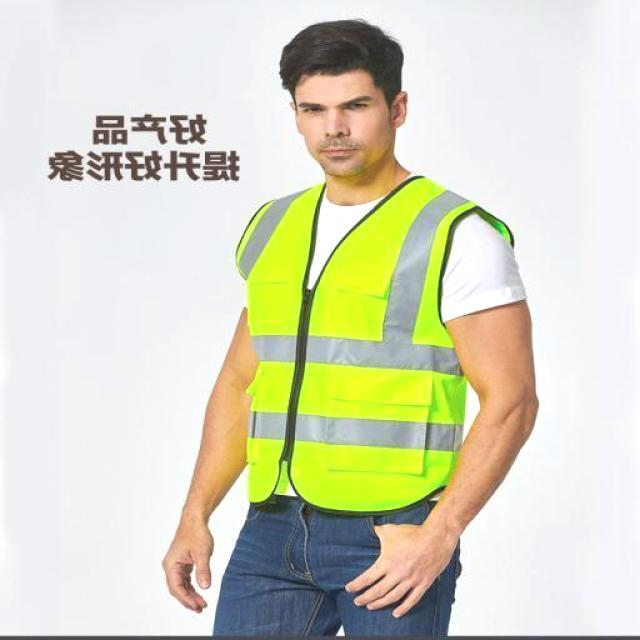face_nomask: (291, 88, 384, 172)
hand_noglove: (344, 518, 444, 618), (153, 510, 224, 614)
head_nohelmet: (278, 10, 407, 91)
person: (156, 17, 549, 640)
vest: (226, 178, 504, 510)
